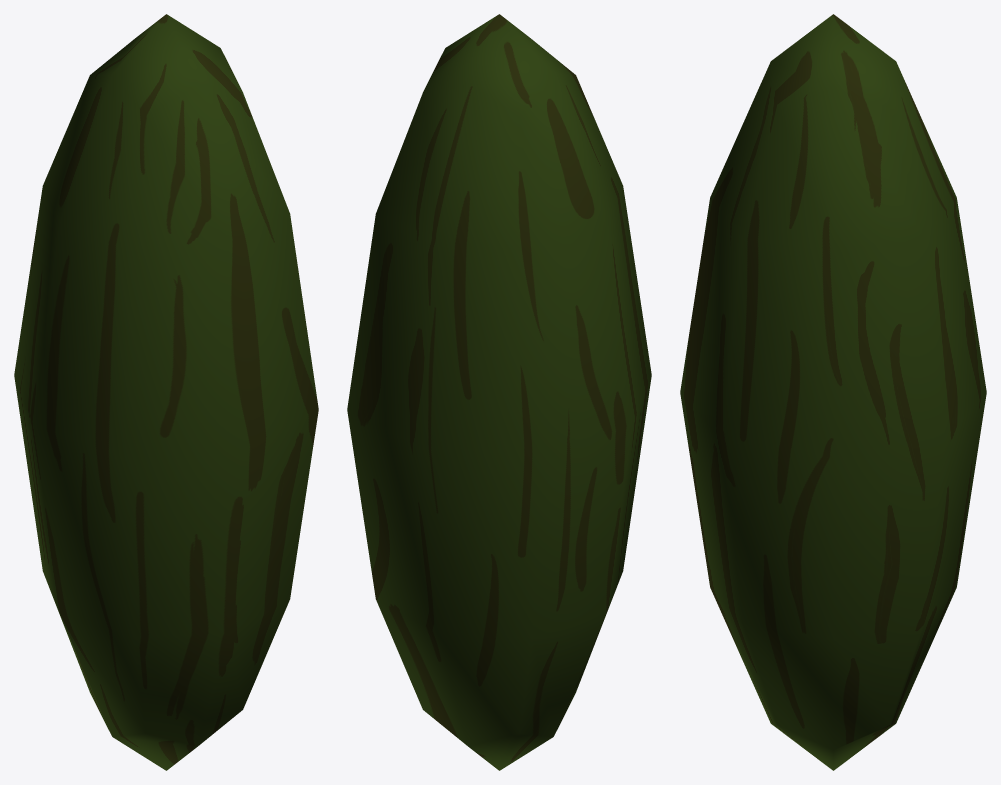
Rendered from Graine.glb.
The picture shows the model from 3 angles, left to right: view 1: azimuth 30°, elevation 25°; view 2: azimuth 150°, elevation 25°; view 3: azimuth 270°, elevation 25°; orthographic projection.
Visible parts, largest first — view 1: Cube; view 2: Cube; view 3: Cube.
Part boxes in pixels (<box>): Cube: <box>14,14,318,770</box>; Cube: <box>347,14,651,770</box>; Cube: <box>680,14,986,770</box>.
Bounding box in the file's own units: 0.1241 × 0.338 × 0.1241.
1 material, 1 textured.
